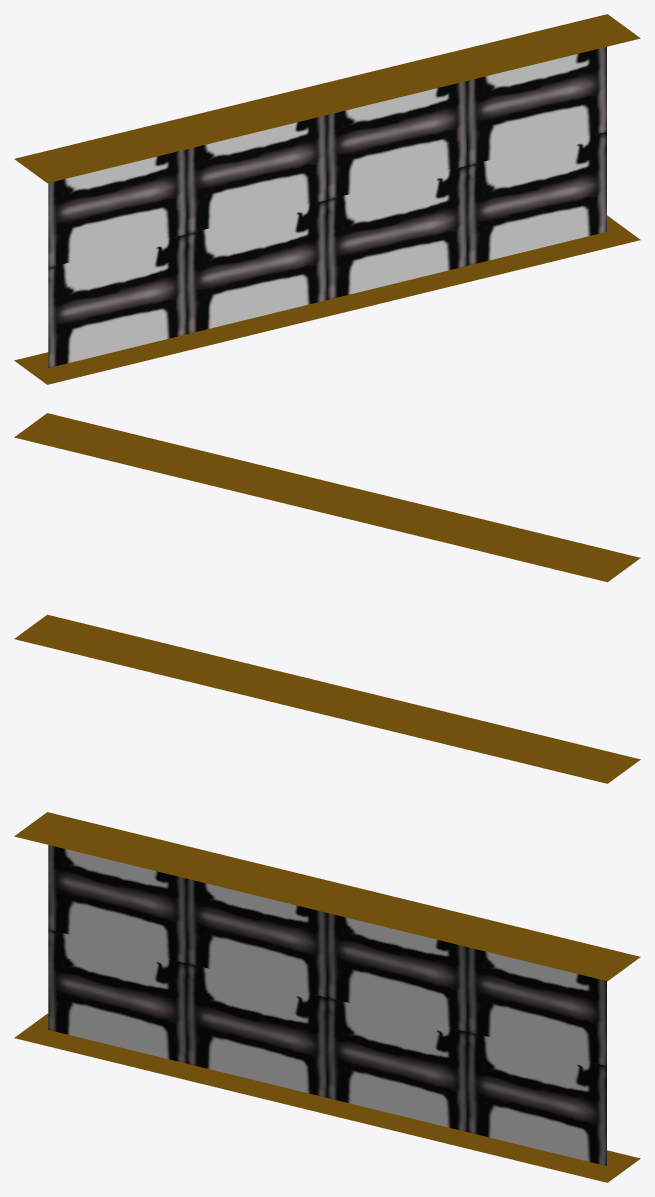
File: Geländer1_1151.glb
The picture shows the model from 3 angles, top to bottom: view 1: azimuth 30°, elevation 25°; view 2: azimuth 150°, elevation 25°; view 3: azimuth 330°, elevation 25°; orthographic projection.
Parts seen in each view (by area): view 1: pPlaneShape223, pPlaneShape224, pPlaneShape225; view 2: pPlaneShape224, pPlaneShape225; view 3: pPlaneShape223, pPlaneShape224, pPlaneShape225.
Boxes of the visible parts, x1,y1,x2,y2 form: pPlaneShape223: (48, 47, 606, 367); pPlaneShape224: (14, 14, 640, 183); pPlaneShape225: (14, 215, 640, 384); pPlaneShape224: (14, 413, 640, 582); pPlaneShape225: (14, 614, 640, 783); pPlaneShape223: (48, 845, 606, 1165); pPlaneShape224: (14, 812, 640, 981); pPlaneShape225: (14, 1013, 640, 1182).
Size of the model in its own units: 0.25 by 0.0811 by 0.0243.
3 materials, 1 textured.
